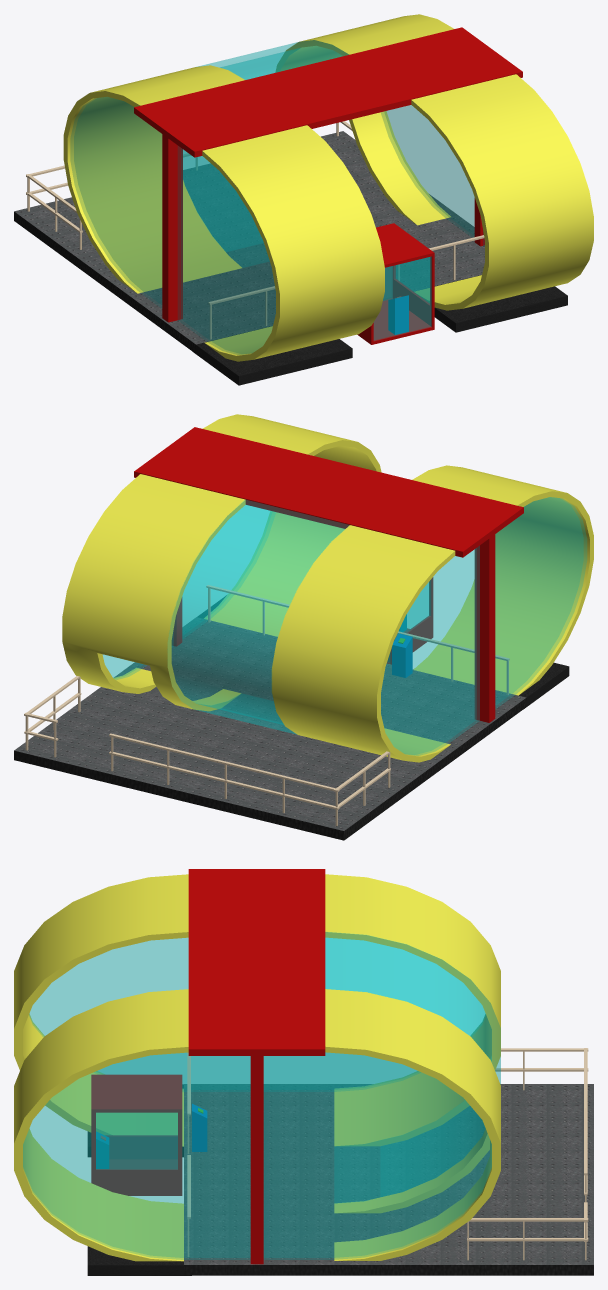
File: New_Cable_Cart.fbx
3 renders of one model, top to bottom at view 1: azimuth 30°, elevation 25°; view 2: azimuth 150°, elevation 25°; view 3: azimuth 270°, elevation 25°, orthographic. The views are drawn at different scales.
Visible parts, largest first — view 1: Cable_Cart_Building, Cable_Cart_New, Railing, Call_Box_Cart; view 2: Cable_Cart_Building, Railing, Cable_Cart_New, Call_Box_Inside; view 3: Cable_Cart_Building, Cable_Cart_New, Railing, Call_Box_Inside.
Part boxes in pixels (x1,y1,x2,y2): Cable_Cart_Building: (14, 14, 593, 385); Cable_Cart_New: (357, 223, 434, 344); Railing: (26, 121, 484, 339); Call_Box_Cart: (388, 295, 408, 334); Cable_Cart_Building: (14, 414, 593, 840); Railing: (24, 585, 509, 825); Cable_Cart_New: (387, 577, 433, 664); Call_Box_Inside: (392, 633, 412, 677); Cable_Cart_Building: (14, 869, 593, 1275); Cable_Cart_New: (91, 1074, 182, 1195); Railing: (187, 1048, 588, 1260); Call_Box_Inside: (192, 1104, 207, 1151).
Size of the model in its own units: 9.4 by 5.48 by 12.74.
10 materials, 8 textured.
